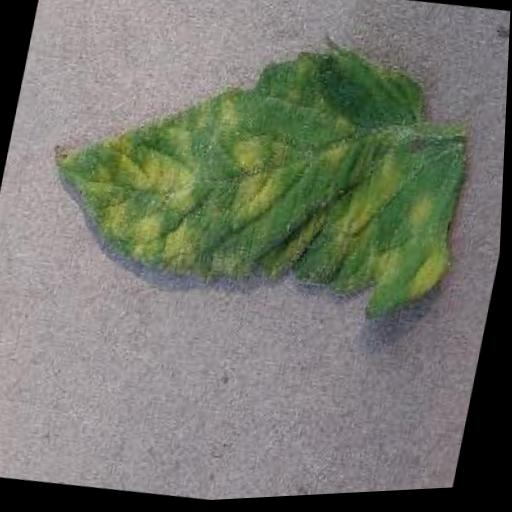Leaf Mold: (25, 0, 494, 345)
